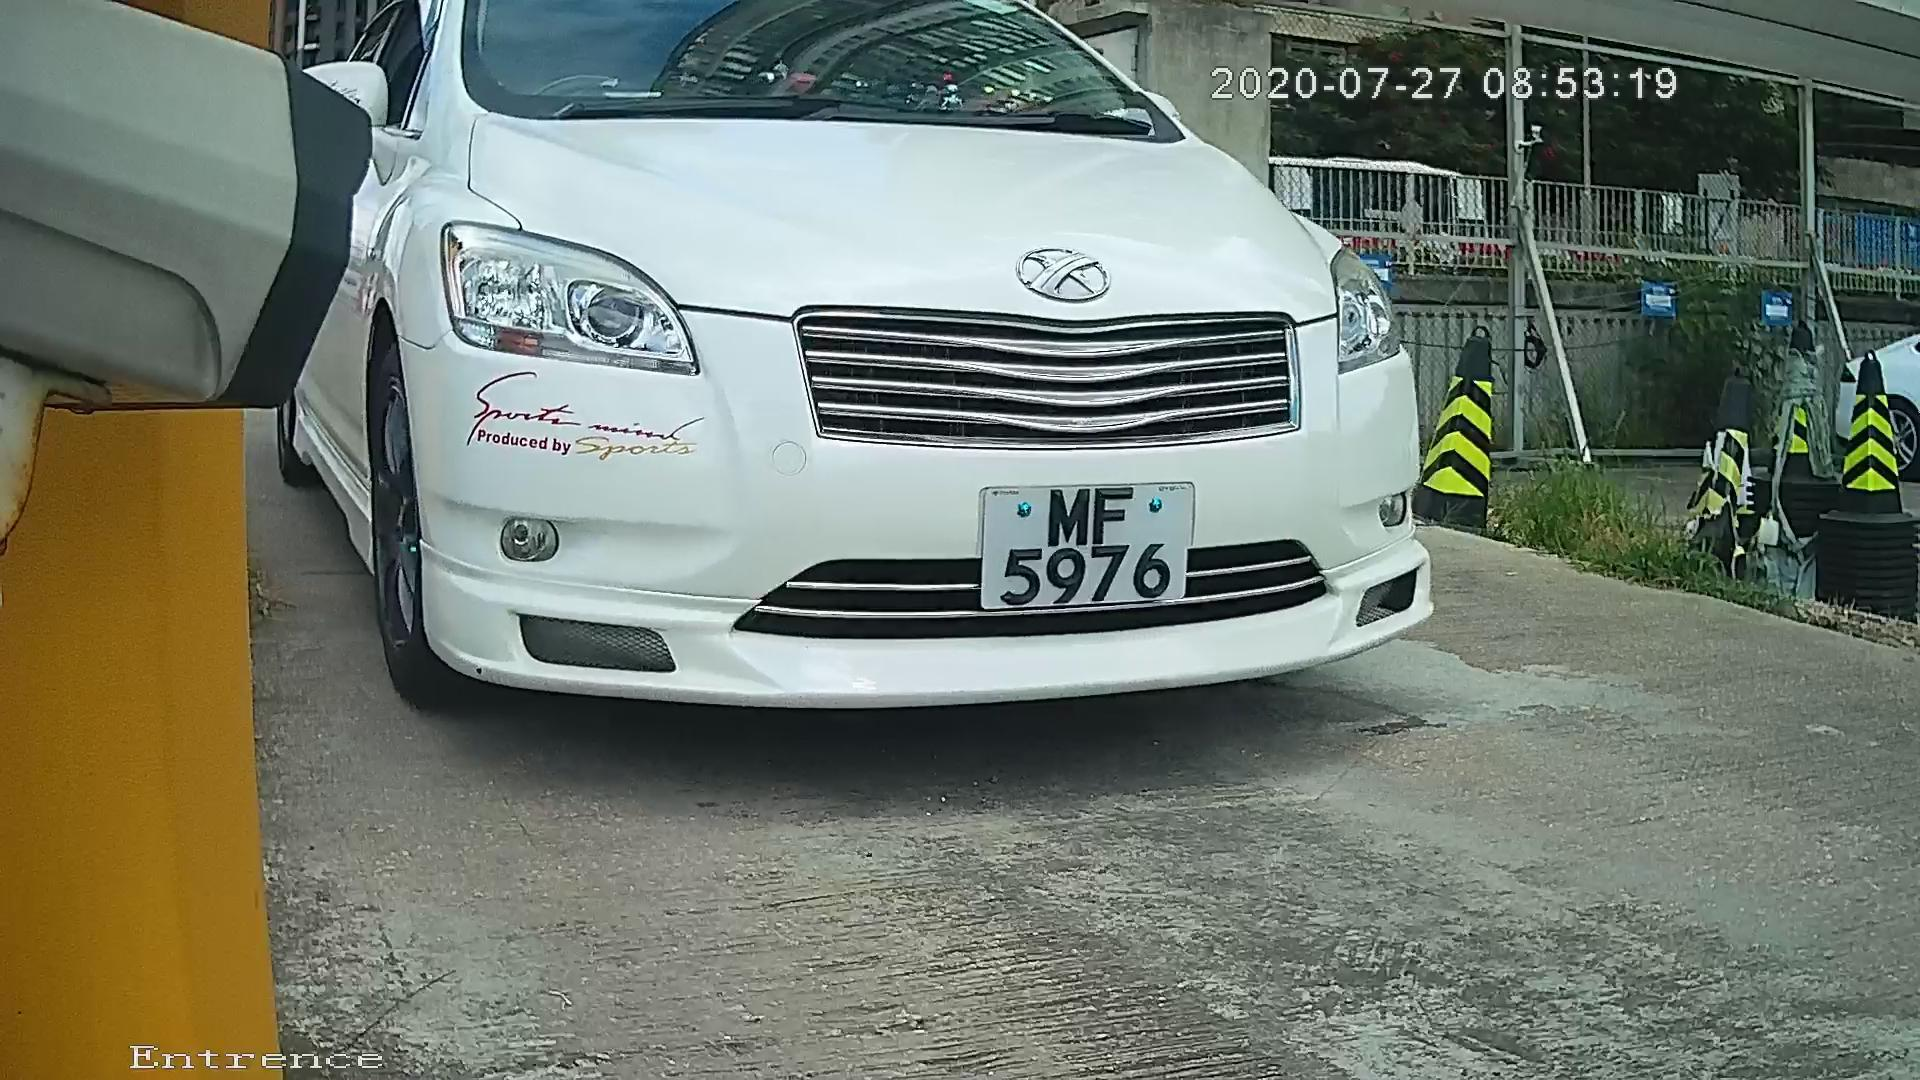Car: (138, 25, 1595, 757)
License Plate: (952, 478, 1209, 622)
